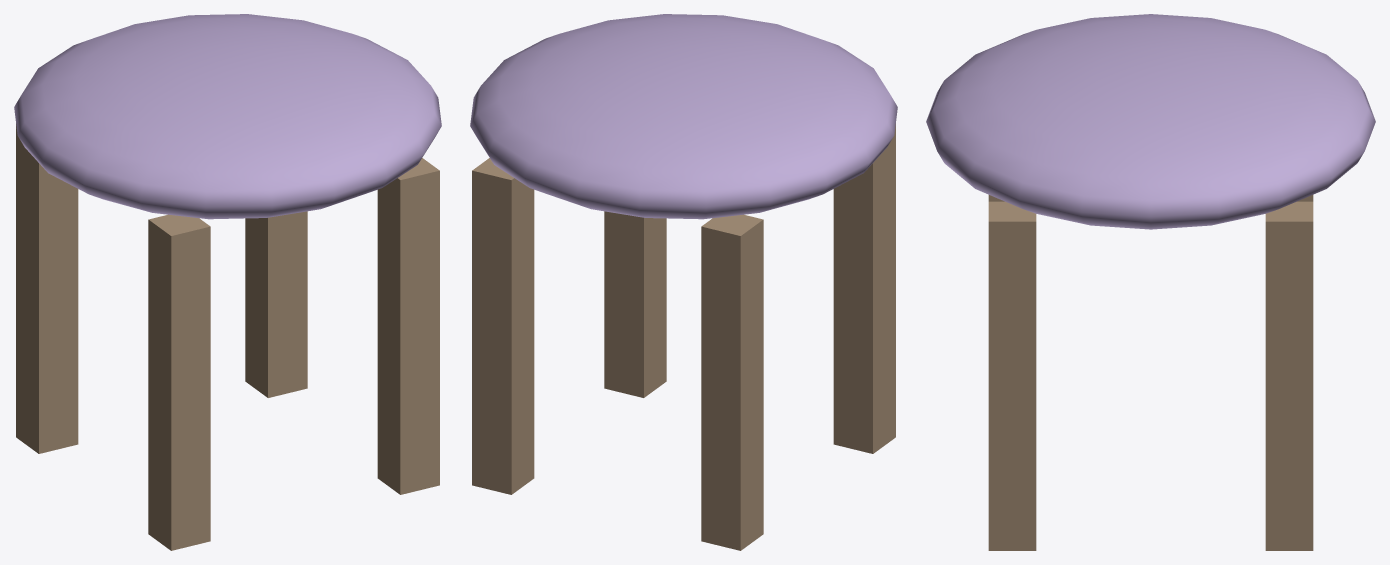
The model's file is round_stool.gltf.
3 renders of one model, left to right at view 1: azimuth 30°, elevation 25°; view 2: azimuth 150°, elevation 25°; view 3: azimuth 270°, elevation 25°, orthographic. The views are drawn at different scales.
Parts seen in each view (by area): view 1: leg (×4), seat; view 2: leg (×4), seat; view 3: seat, leg (×2).
Boxes of the visible parts, x1,y1,x2,y2 form: leg (×4): [16, 124, 439, 550]; seat: [14, 14, 441, 219]; leg (×4): [472, 124, 895, 550]; seat: [470, 14, 897, 219]; seat: [926, 14, 1375, 229]; leg (×2): [988, 201, 1313, 550].
Size of the model in its own units: 0.52 by 0.525 by 0.52.
